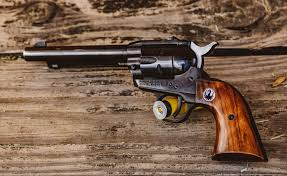Gun: (15, 36, 266, 171)
